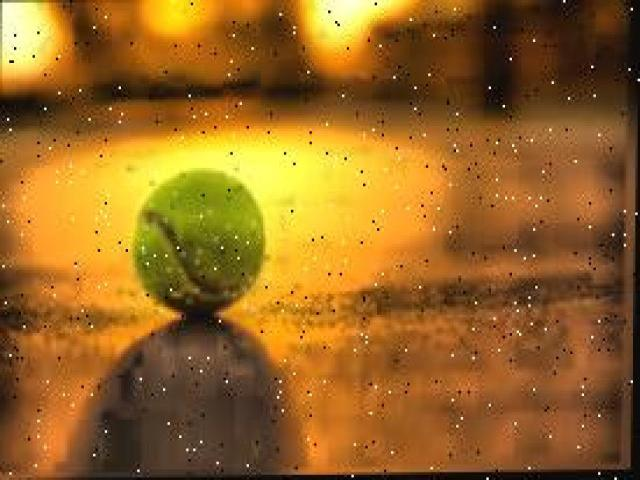tennis-ball: (131, 166, 269, 316)
